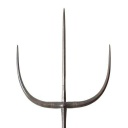fork: (11, 6, 118, 128)
